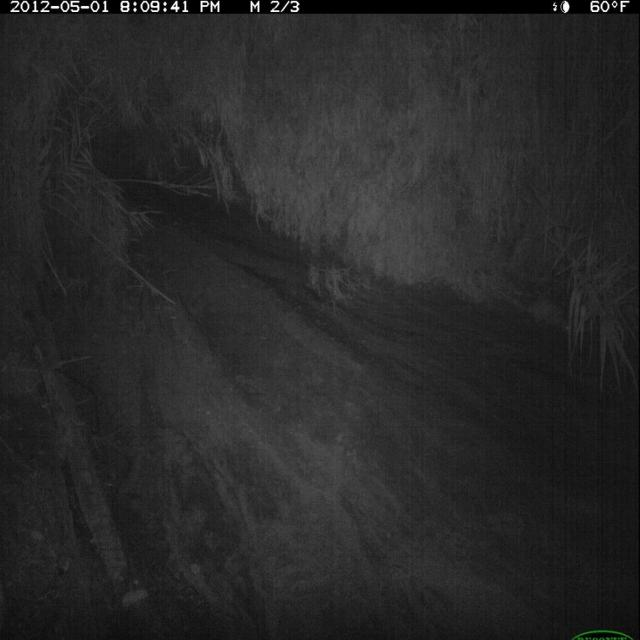opossum: (502, 285, 578, 336)
